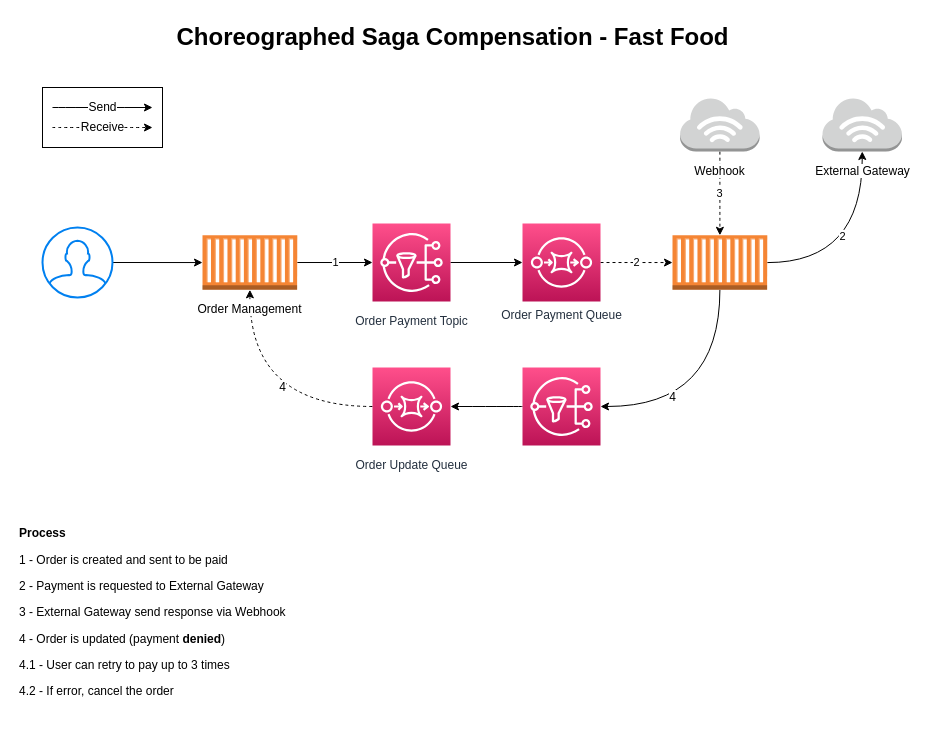
This 927x734 diagram has some shape labels left out. Here are the shapes that lost their labels. From the top down, the centre of each, then its label:
point 77,262: Customer
point 719,262: Payment Management
point 561,406: Order Update Topic
